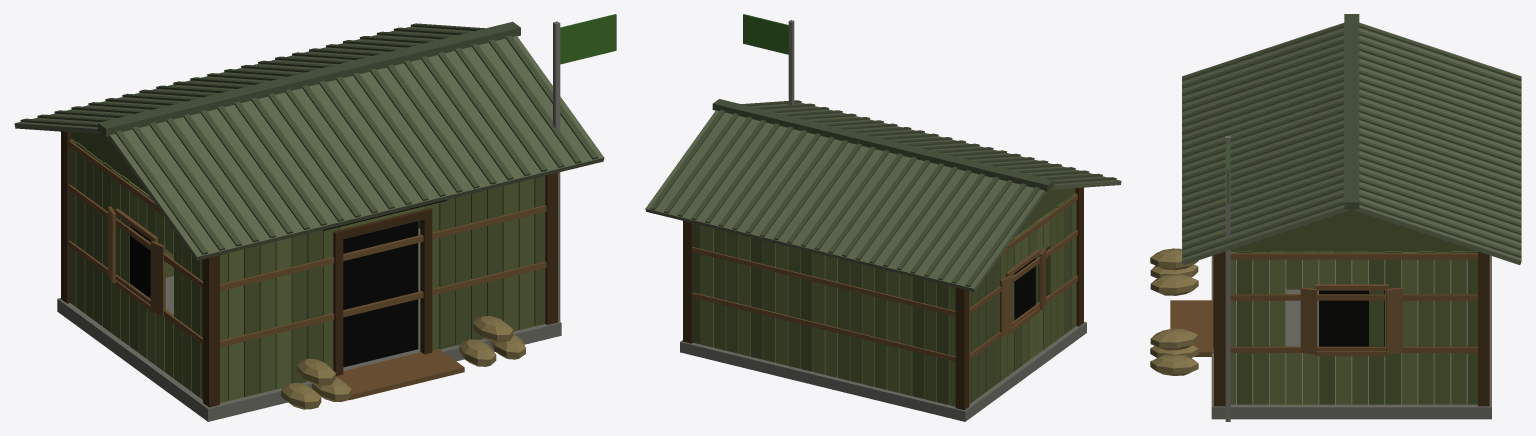
Rendered from kazerne.glb.
3 views of the same model, side by side, from view 1: azimuth 30°, elevation 25°; view 2: azimuth 150°, elevation 25°; view 3: azimuth 270°, elevation 25° (orthographic). The views are drawn at different scales.
Visible parts, largest first — view 1: Kazerne_Dak, Kazerne_Dakrib, Kazerne_Wand2, Kazerne_Wand1, Kazerne_Plank1, Kazerne_Paal, Kazerne_Donker, Kazerne_Wand3, Kazerne_Beton, Kazerne_Zak, Kazerne_Vlag, Kazerne_Metaal; view 2: Kazerne_Dak, Kazerne_Dakrib, Kazerne_Wand1, Kazerne_Wand3, Kazerne_Wand2, Kazerne_Plank1, Kazerne_Beton, Kazerne_Paal, Kazerne_Vlag, Kazerne_Donker, Kazerne_Metaal; view 3: Kazerne_Dakrib, Kazerne_Dak, Kazerne_Wand2, Kazerne_Wand1, Kazerne_Plank1, Kazerne_Wand3, Kazerne_Beton, Kazerne_Zak, Kazerne_Paal, Kazerne_Donker, Kazerne_Metaal.
Boxes of the visible parts, x1,y1,x2,y2 form: Kazerne_Dak: (14,26,604,260); Kazerne_Dakrib: (20,21,598,254); Kazerne_Wand2: (71,132,545,397); Kazerne_Wand1: (70,139,534,402); Kazerne_Plank1: (68,140,546,400); Kazerne_Paal: (61,131,557,407); Kazerne_Donker: (129,200,446,367); Kazerne_Wand3: (129,182,423,400); Kazerne_Beton: (57,228,561,421); Kazerne_Zak: (281,316,525,409); Kazerne_Vlag: (560,14,616,64); Kazerne_Metaal: (553,21,560,321); Kazerne_Dak: (645,103,1121,291); Kazerne_Dakrib: (650,99,1116,286); Kazerne_Wand1: (714,193,1076,403); Kazerne_Wand3: (701,212,1050,406); Kazerne_Wand2: (693,188,1075,404); Kazerne_Plank1: (692,194,1077,361); Kazerne_Beton: (680,322,1086,421); Kazerne_Paal: (683,187,1083,410); Kazerne_Vlag: (743,14,788,54); Kazerne_Donker: (1014,258,1035,320); Kazerne_Metaal: (788,20,794,105); Kazerne_Dakrib: (1182,14,1521,257); Kazerne_Dak: (1182,22,1521,264); Kazerne_Wand2: (1230,209,1477,404); Kazerne_Wand1: (1253,251,1466,404); Kazerne_Plank1: (1170,253,1477,356); Kazerne_Wand3: (1230,251,1417,404); Kazerne_Beton: (1211,255,1491,419); Kazerne_Zak: (1150,248,1198,375); Kazerne_Paal: (1213,251,1489,406); Kazerne_Donker: (1319,290,1384,346); Kazerne_Metaal: (1225,136,1230,421).
Size of the model in its own units: 5.83 by 3.8 by 4.51.
